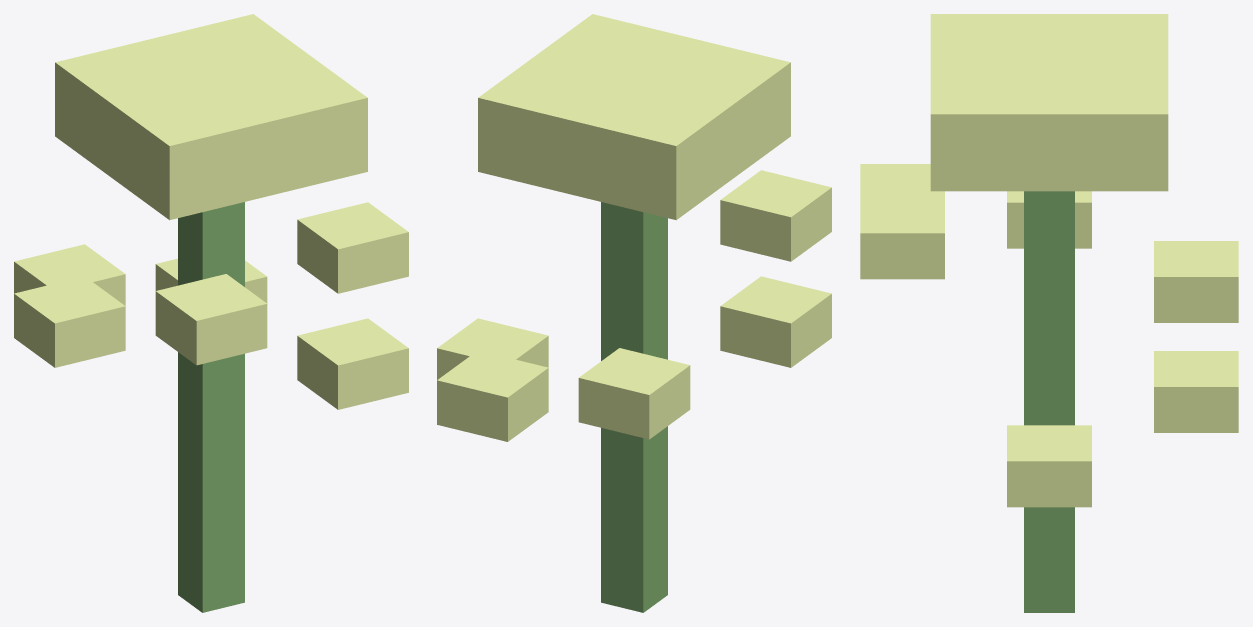
Rendered from Prop_DS_Herb_OverclockThorn_S3_V3.glb.
3 renders of one model, left to right at view 1: azimuth 30°, elevation 25°; view 2: azimuth 150°, elevation 25°; view 3: azimuth 270°, elevation 25°, orthographic. The views are drawn at different scales.
Parts seen in each view (by area): view 1: Prop_DS_Herb_OverclockThorn_S3_V3; view 2: Prop_DS_Herb_OverclockThorn_S3_V3; view 3: Prop_DS_Herb_OverclockThorn_S3_V3.
Part boxes in pixels (bbox=[...]): Prop_DS_Herb_OverclockThorn_S3_V3: bbox=[14, 14, 408, 612]; Prop_DS_Herb_OverclockThorn_S3_V3: bbox=[437, 14, 831, 612]; Prop_DS_Herb_OverclockThorn_S3_V3: bbox=[860, 14, 1238, 612].
Bounding box in the file's own units: 0.5 × 0.7 × 0.4464.
